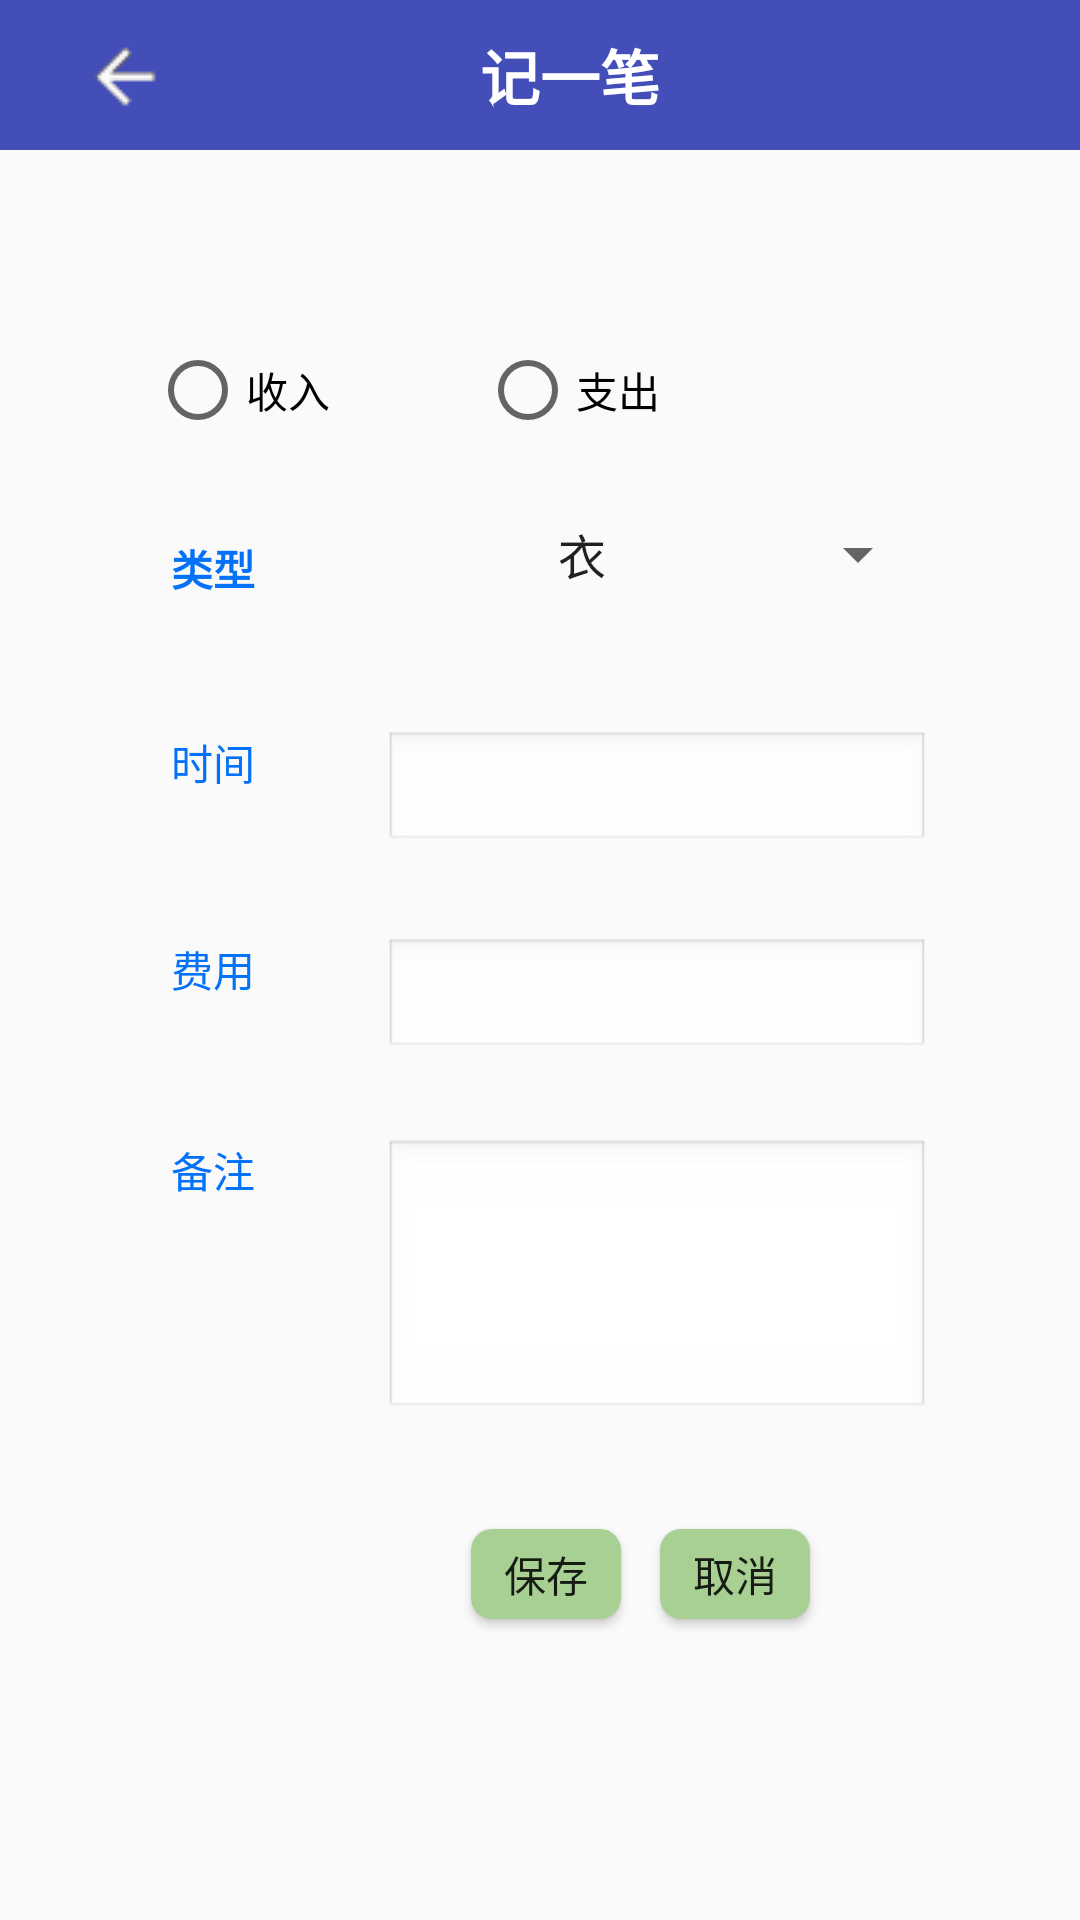

Named icons in this screenshot (1080 × 1920) and their centers, point (x, y):
back: point (125, 76)
